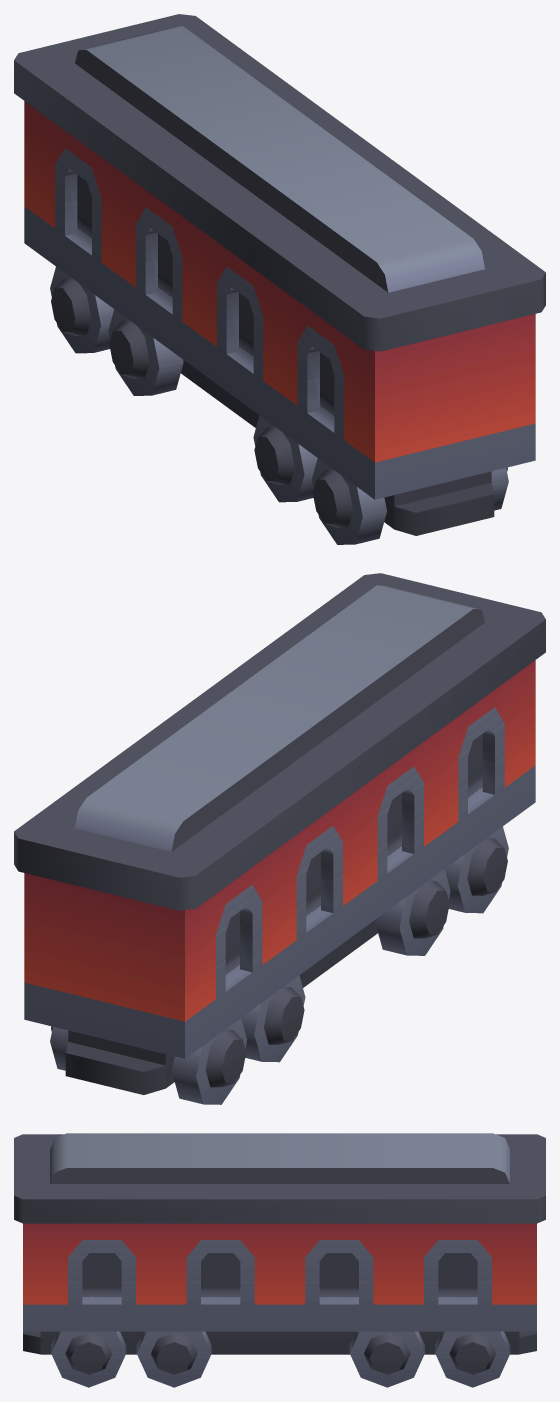
The model's file is baratrain_wagon.glb.
3 views of the same model, one above another, from view 1: azimuth 30°, elevation 25°; view 2: azimuth 150°, elevation 25°; view 3: azimuth 270°, elevation 25° (orthographic). The views are drawn at different scales.
Parts seen in each view (by area): view 1: train-wagon; view 2: train-wagon; view 3: train-wagon.
Boxes of the visible parts, bbox=[...] form: train-wagon: bbox=[14, 14, 545, 544]; train-wagon: bbox=[14, 573, 545, 1104]; train-wagon: bbox=[14, 1133, 545, 1387].
Size of the model in its own units: 0.7245 by 1.1 by 2.5.
Materials: 1 (1 with a texture image).
